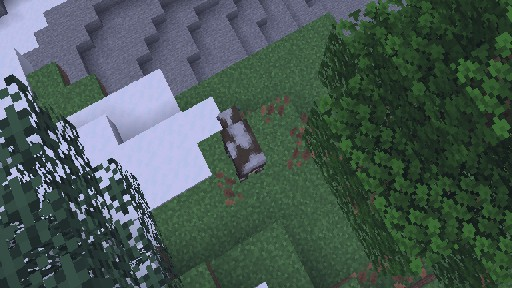cow: (215, 104, 265, 182)
